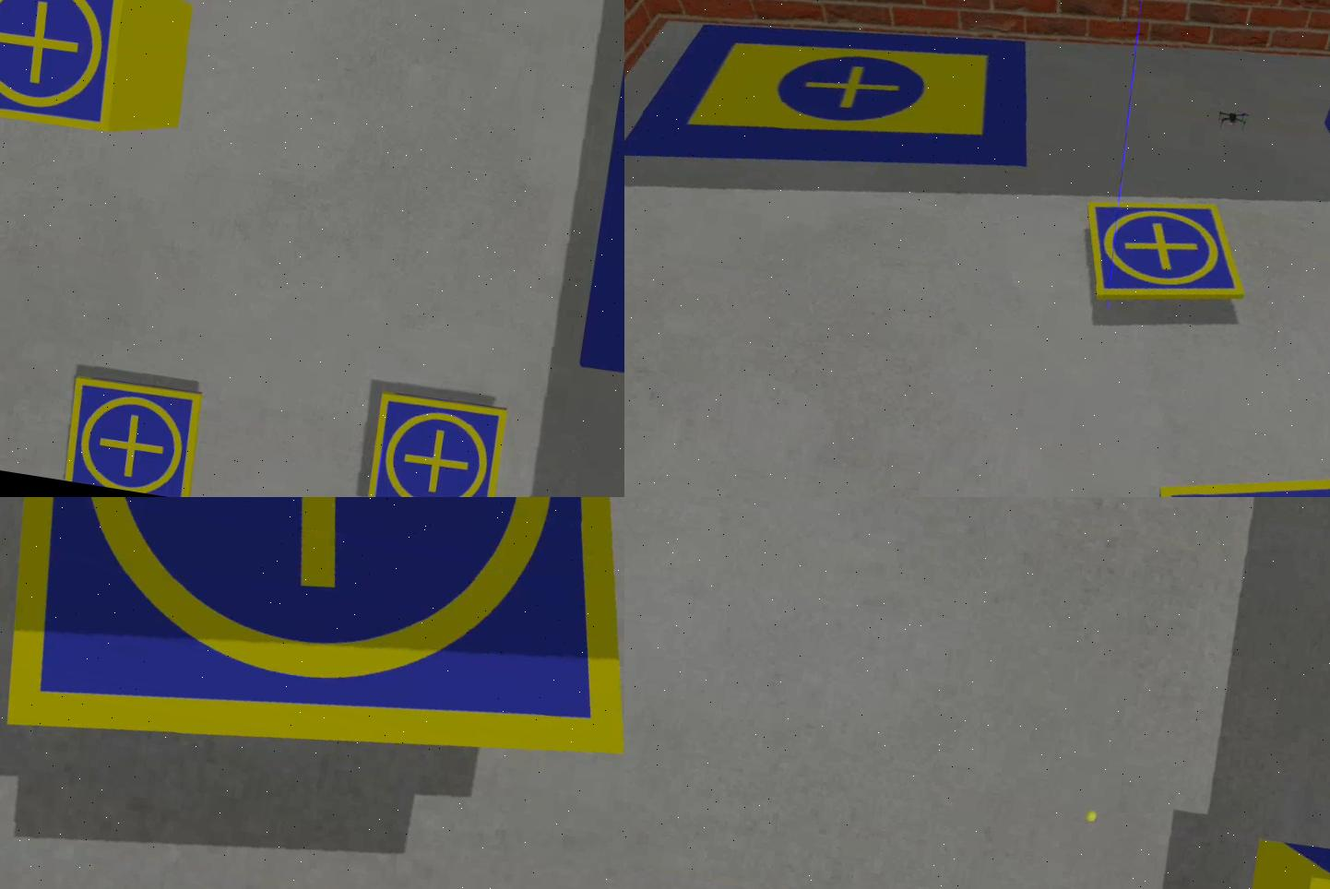large_base: (625, 1, 1050, 220)
small_base: (1, 498, 625, 824), (1072, 184, 1260, 325), (56, 371, 208, 498), (1, 1, 138, 141), (362, 388, 513, 498)
